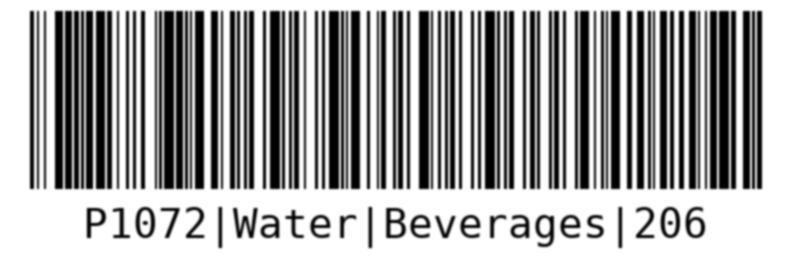milk: (15, 6, 770, 270)
